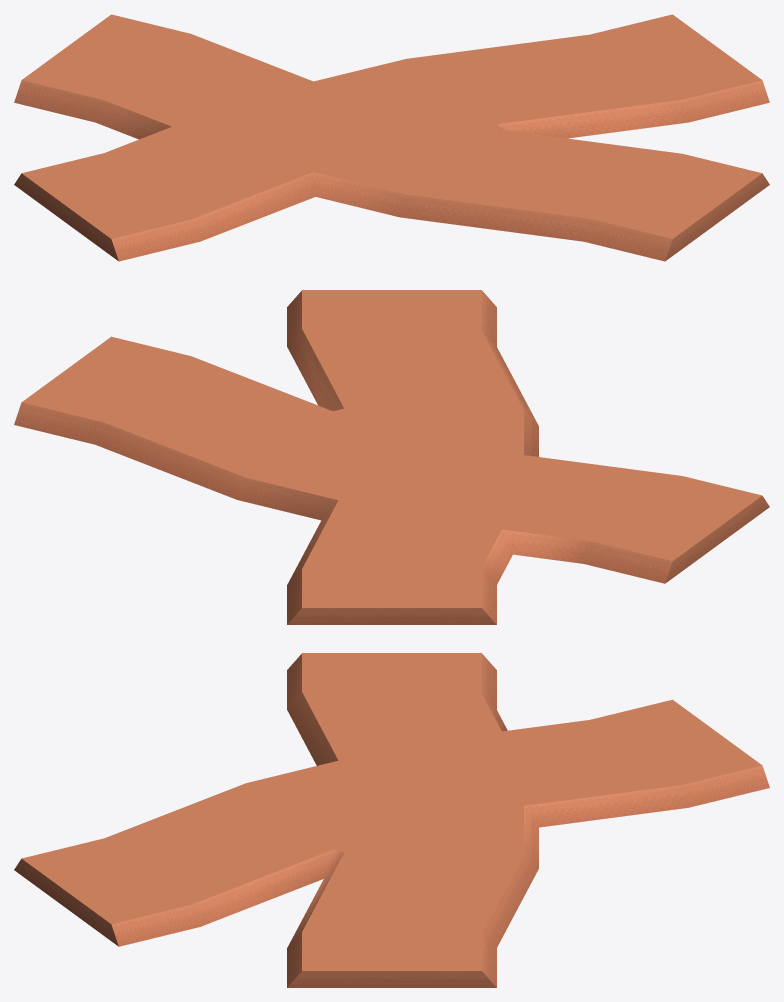
Rendered from path-intersectionE.glb.
3 renders of one model, top to bottom at view 1: azimuth 30°, elevation 25°; view 2: azimuth 150°, elevation 25°; view 3: azimuth 270°, elevation 25°, orthographic.
Visible parts, largest first — view 1: path-intersectionE; view 2: path-intersectionE; view 3: path-intersectionE.
Boxes of the visible parts, x1,y1,x2,y2 form: path-intersectionE: (14,14,769,261); path-intersectionE: (14,290,769,624); path-intersectionE: (14,653,769,987).
Bounding box in the file's own units: 1 × 0.025 × 1.01.
Materials: 1 (1 with a texture image).
